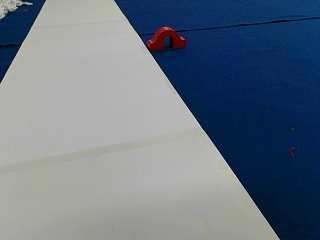bridge: (148, 26, 186, 48)
